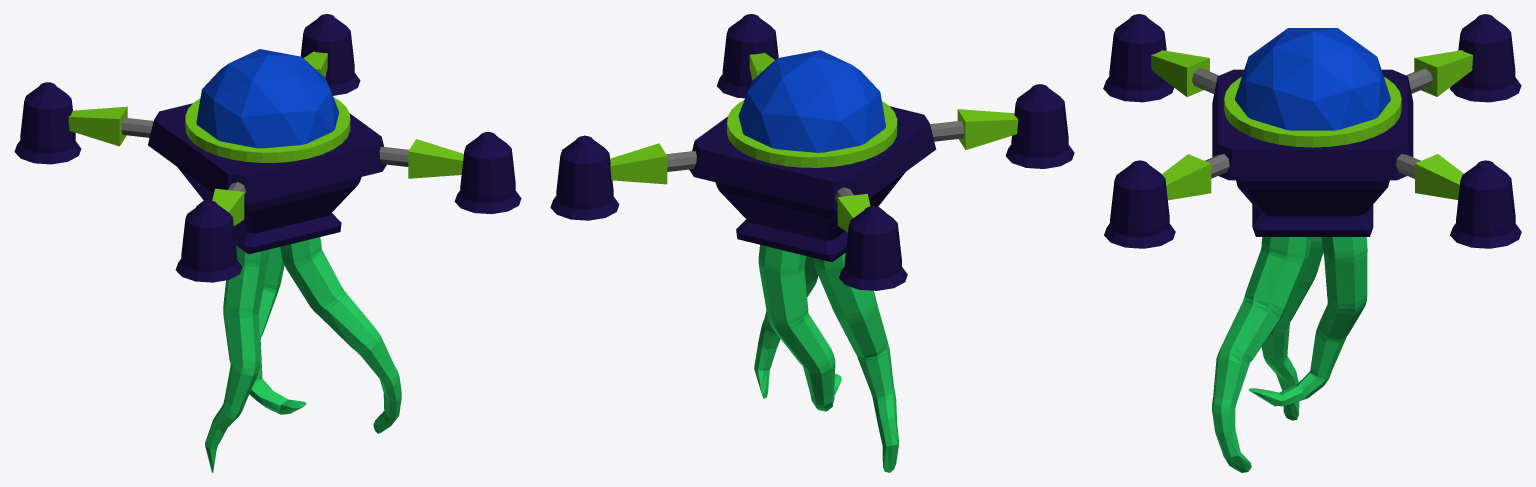
File: jellyfishBoss_2.obj
3 views of the same model, side by side, from view 1: azimuth 30°, elevation 25°; view 2: azimuth 150°, elevation 25°; view 3: azimuth 270°, elevation 25° (orthographic). The views are drawn at different scales.
Visible parts, largest first — view 1: Base_Cube.001, Head_Icosphere, Cylinder.002_Cylinder.001, Cylinder.003_Cylinder.002, Rocket_2_Cylinder.014, Rocket_1_Cylinder.003, Rocket_3_Cylinder.016, Cylinder, Rocket_4_Cylinder.018, Cylinder.001_Cylinder.012, B_Arm_1_Cube.002, B_Arm_3_Cube.011 (+2 smaller); view 2: Base_Cube.001, Head_Icosphere, Cylinder.001_Cylinder.012, Cylinder.003_Cylinder.002, Rocket_3_Cylinder.016, Rocket_4_Cylinder.018, Rocket_2_Cylinder.014, Cylinder, Rocket_1_Cylinder.003, B_Arm_4_Cube.012, B_Arm_2_Cube.010, Cylinder.002_Cylinder.001 (+3 smaller); view 3: Base_Cube.001, Head_Icosphere, Cylinder.002_Cylinder.001, Cylinder.001_Cylinder.012, Rocket_4_Cylinder.018, Rocket_1_Cylinder.003, Rocket_3_Cylinder.016, Rocket_2_Cylinder.014, Cylinder, Cylinder.003_Cylinder.002, B_Arm_1_Cube.002, B_Arm_2_Cube.010 (+4 smaller).
Part boxes in pixels (x1,y1,x2,y2): Base_Cube.001: [148, 103, 386, 254]; Head_Icosphere: [196, 49, 339, 148]; Cylinder.002_Cylinder.001: [280, 237, 401, 433]; Cylinder.003_Cylinder.002: [205, 245, 269, 472]; Rocket_2_Cylinder.014: [175, 200, 242, 282]; Rocket_1_Cylinder.003: [454, 132, 521, 214]; Rocket_3_Cylinder.016: [14, 82, 81, 164]; Cylinder: [185, 97, 350, 162]; Rocket_4_Cylinder.018: [300, 14, 360, 95]; Cylinder.001_Cylinder.012: [249, 247, 306, 414]; B_Arm_1_Cube.002: [408, 139, 463, 178]; B_Arm_3_Cube.011: [68, 106, 127, 146]; Base_Cube.001: [689, 106, 936, 262]; Head_Icosphere: [738, 50, 885, 152]; Cylinder.001_Cylinder.012: [758, 245, 841, 411]; Cylinder.003_Cylinder.002: [813, 253, 898, 472]; Rocket_3_Cylinder.016: [839, 206, 907, 290]; Rocket_4_Cylinder.018: [550, 135, 619, 220]; Rocket_2_Cylinder.014: [1005, 84, 1074, 168]; Cylinder: [727, 100, 897, 167]; Rocket_1_Cylinder.003: [717, 14, 778, 98]; B_Arm_4_Cube.012: [610, 143, 667, 184]; B_Arm_2_Cube.010: [957, 109, 1018, 149]; Cylinder.002_Cylinder.001: [754, 256, 818, 398]; Base_Cube.001: [1212, 69, 1413, 236]; Head_Icosphere: [1235, 28, 1390, 130]; Cylinder.002_Cylinder.001: [1212, 237, 1311, 472]; Cylinder.001_Cylinder.012: [1248, 237, 1367, 406]; Rocket_4_Cylinder.018: [1450, 160, 1521, 248]; Rocket_1_Cylinder.003: [1104, 160, 1175, 248]; Rocket_3_Cylinder.016: [1450, 14, 1521, 102]; Rocket_2_Cylinder.014: [1103, 14, 1174, 102]; Cylinder: [1224, 77, 1401, 147]; Cylinder.003_Cylinder.002: [1261, 237, 1323, 420]; B_Arm_1_Cube.002: [1162, 154, 1211, 200]; B_Arm_2_Cube.010: [1151, 50, 1209, 96].
Size of the model in its own units: 14.77 by 16.5 by 14.77.
